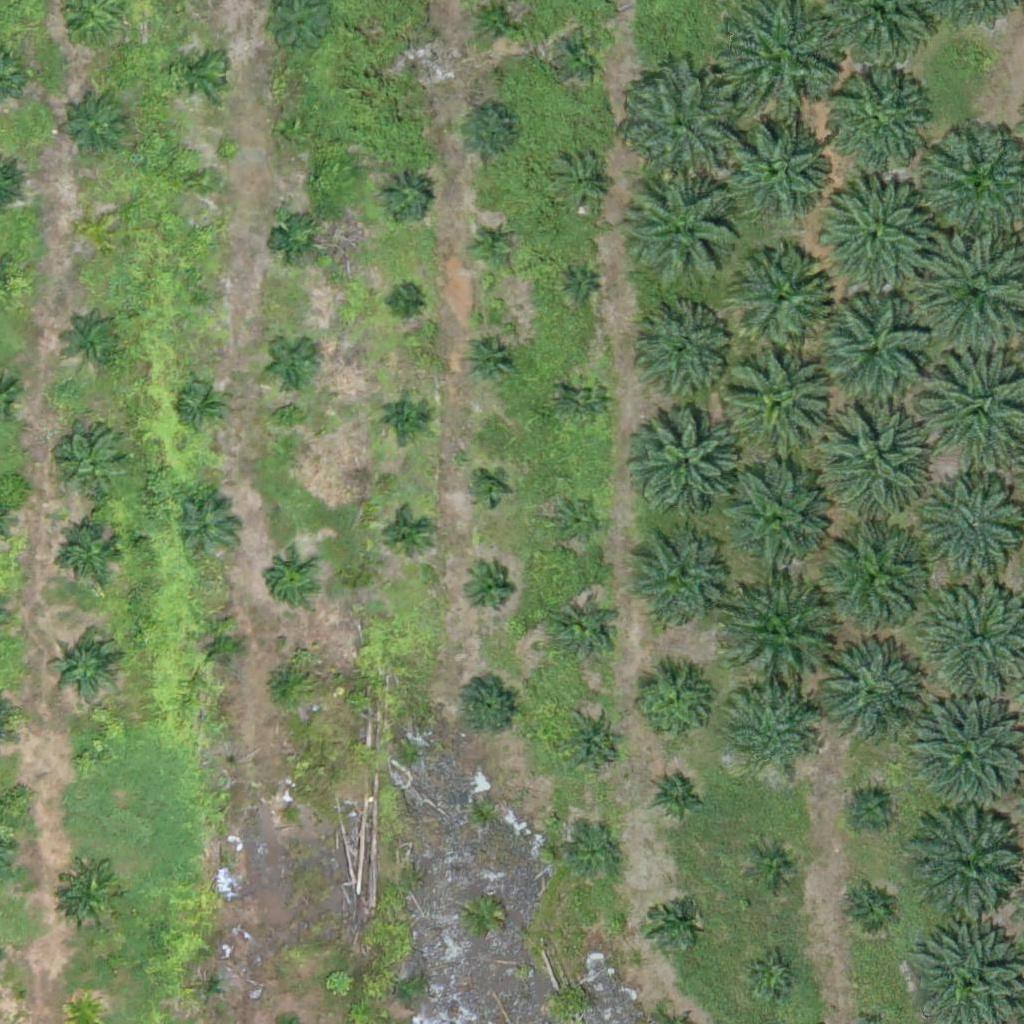Kelapa_Sawit: (810, 396, 935, 522), (815, 176, 928, 289), (814, 293, 927, 406), (811, 637, 924, 750), (817, 525, 929, 639), (725, 581, 837, 695), (721, 465, 833, 579), (724, 348, 836, 462), (624, 68, 736, 181), (633, 174, 745, 287), (726, 118, 826, 219), (732, 246, 832, 347), (825, 67, 925, 167), (637, 412, 737, 512), (625, 538, 725, 638), (627, 661, 714, 749), (642, 308, 729, 396), (727, 688, 814, 776), (47, 632, 122, 708), (562, 713, 625, 776), (176, 496, 239, 559), (457, 672, 520, 735), (59, 864, 122, 927), (64, 95, 127, 158), (457, 100, 520, 163), (556, 603, 618, 666), (59, 524, 121, 587), (61, 434, 124, 496), (67, 312, 129, 375), (650, 765, 712, 828), (379, 509, 429, 560), (463, 563, 513, 614), (556, 157, 606, 208), (172, 45, 222, 96), (379, 170, 429, 221), (197, 622, 247, 673), (259, 657, 309, 708), (569, 832, 619, 882), (645, 896, 695, 946), (561, 375, 611, 425), (381, 392, 431, 442), (269, 337, 319, 387), (176, 380, 226, 430), (264, 555, 314, 605), (271, 217, 321, 267), (747, 952, 797, 1002), (748, 843, 798, 893), (556, 30, 606, 80), (467, 220, 517, 270), (550, 494, 600, 544), (466, 334, 516, 384), (845, 784, 895, 834), (846, 887, 896, 937), (279, 113, 317, 151), (470, 469, 508, 507), (192, 969, 229, 1007), (402, 46, 427, 71), (568, 275, 593, 300), (391, 289, 416, 314), (190, 282, 215, 307), (190, 166, 215, 191), (85, 220, 110, 245), (274, 800, 299, 825), (75, 747, 100, 772)
